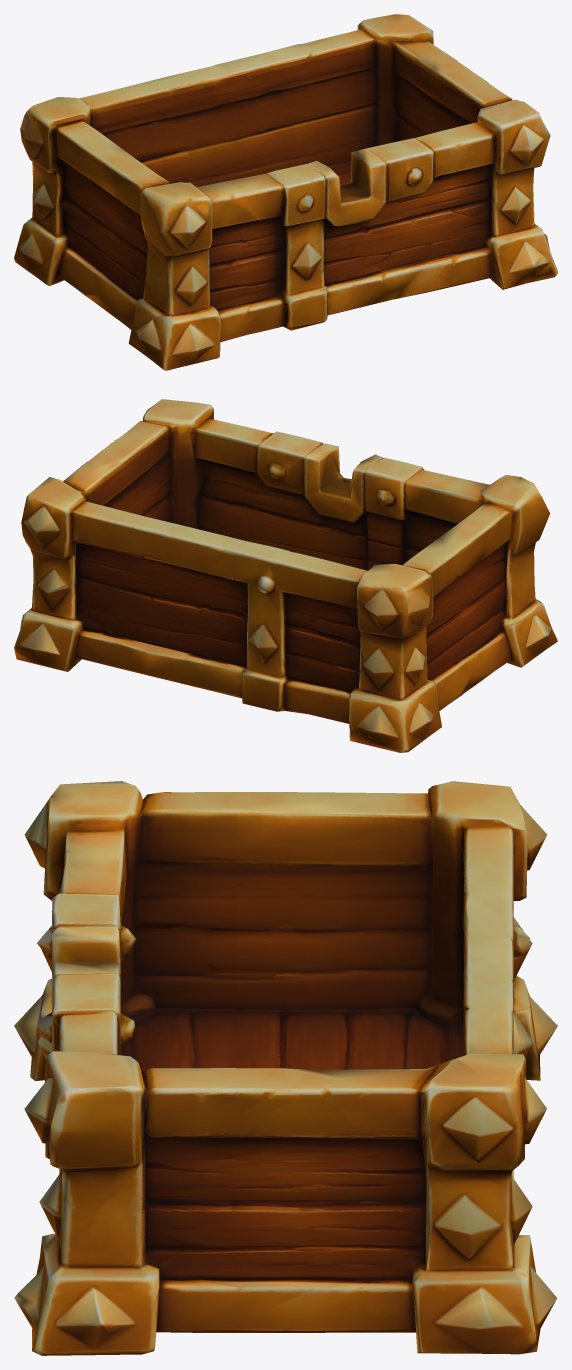
File: treasure_chest_box.fbx
3 renders of one model, top to bottom at view 1: azimuth 30°, elevation 25°; view 2: azimuth 150°, elevation 25°; view 3: azimuth 270°, elevation 25°, orthographic. The views are drawn at different scales.
Parts seen in each view (by area): view 1: tripo_node_885980cd; view 2: tripo_node_885980cd; view 3: tripo_node_885980cd.
Boxes of the visible parts, x1=… form: tripo_node_885980cd: x1=14, y1=14, x2=557, y2=370; tripo_node_885980cd: x1=14, y1=399, x2=557, y2=752; tripo_node_885980cd: x1=14, y1=781, x2=557, y2=1355.
Bounding box in the file's own units: 100 × 69.42 × 37.61.
1 material, 1 textured.
